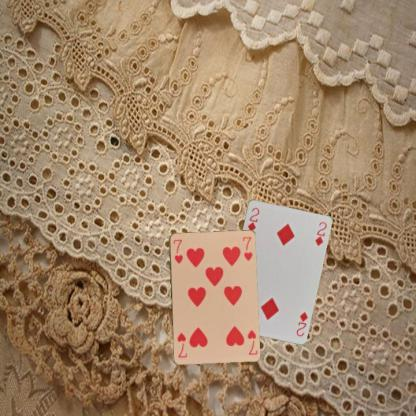2d: (245, 205, 261, 233), (294, 309, 309, 338)
7h: (170, 236, 184, 265), (244, 327, 258, 355)
